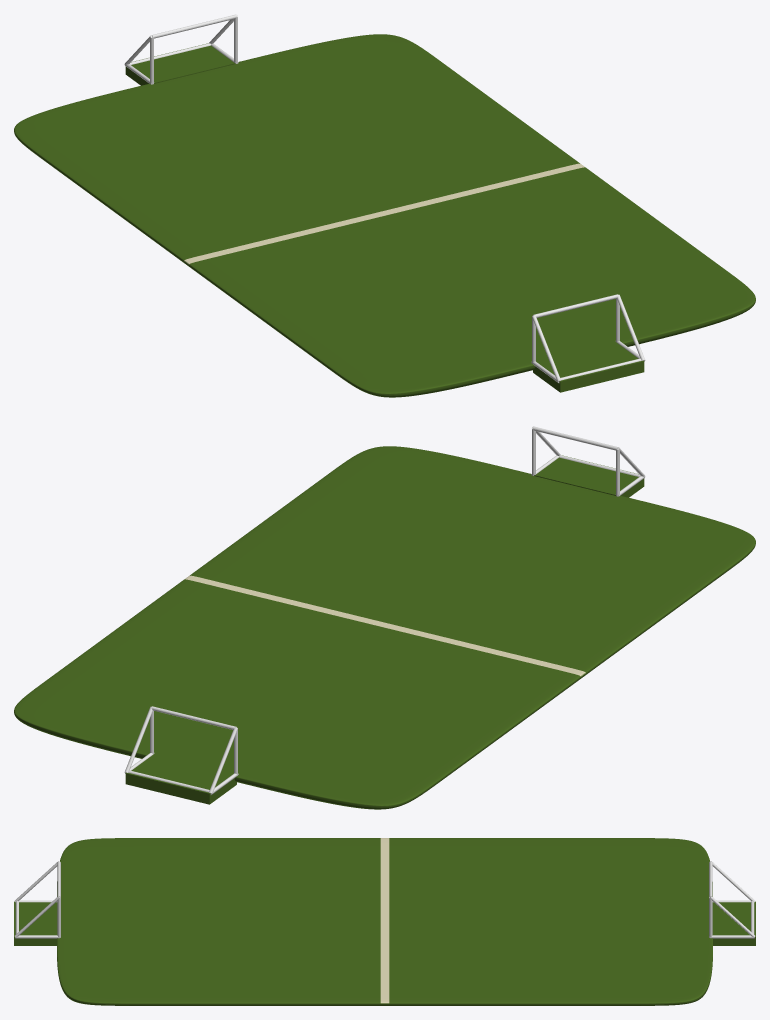
Rendered from soccerfield.fbx.
3 views of the same model, one above another, from view 1: azimuth 30°, elevation 25°; view 2: azimuth 150°, elevation 25°; view 3: azimuth 270°, elevation 25° (orthographic). The views are drawn at different scales.
Visible parts, largest first — view 1: ground, Cube.001, Cube; view 2: ground, Cube, Cube.001; view 3: ground, Cube, Cube.001.
Boxes of the visible parts, x1,y1,x2,y2 form: ground: (14, 34, 755, 397); Cube.001: (533, 341, 644, 392); Cube: (125, 43, 235, 85); ground: (14, 446, 755, 809); Cube: (125, 753, 236, 804); Cube.001: (534, 455, 644, 497); ground: (57, 838, 712, 1005); Cube: (712, 901, 755, 945); Cube.001: (14, 901, 57, 945).
Size of the model in its own units: 7559 by 1080 by 14333.
